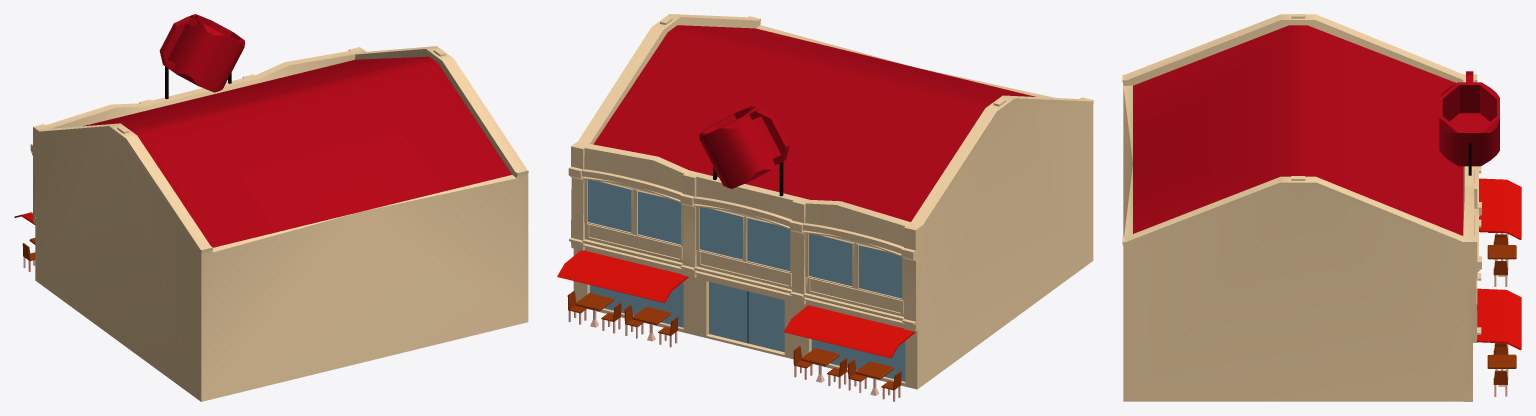
Rendered from coffee shop.fbx.
The picture shows the model from 3 angles, left to right: view 1: azimuth 30°, elevation 25°; view 2: azimuth 150°, elevation 25°; view 3: azimuth 270°, elevation 25°; orthographic projection. The views are drawn at different scales.
Visible parts, largest first — view 1: Cafe; view 2: Cafe; view 3: Cafe.
Boxes of the visible parts, x1,y1,x2,y2 form: Cafe: (14,14,528,401); Cafe: (557,14,1093,401); Cafe: (1122,14,1521,401).
Size of the model in its own units: 1235 by 818 by 1240.
